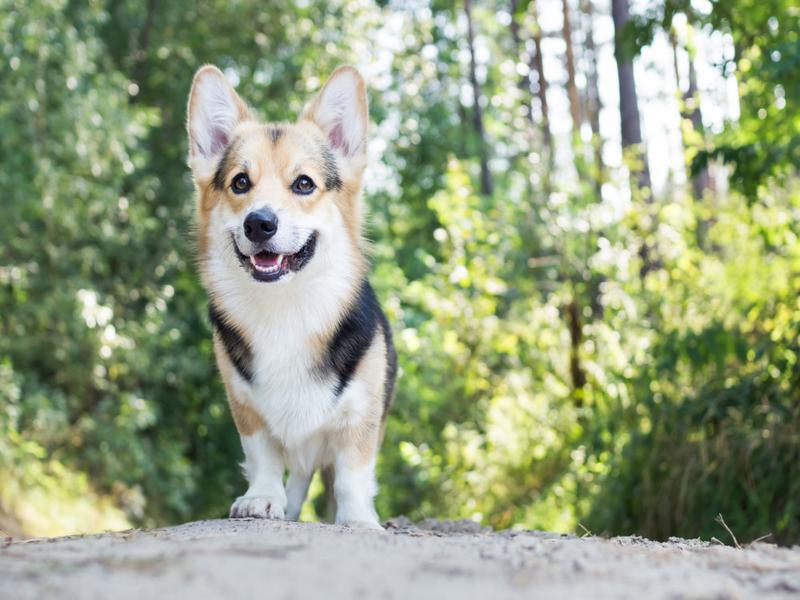corgi: (183, 62, 380, 286)
